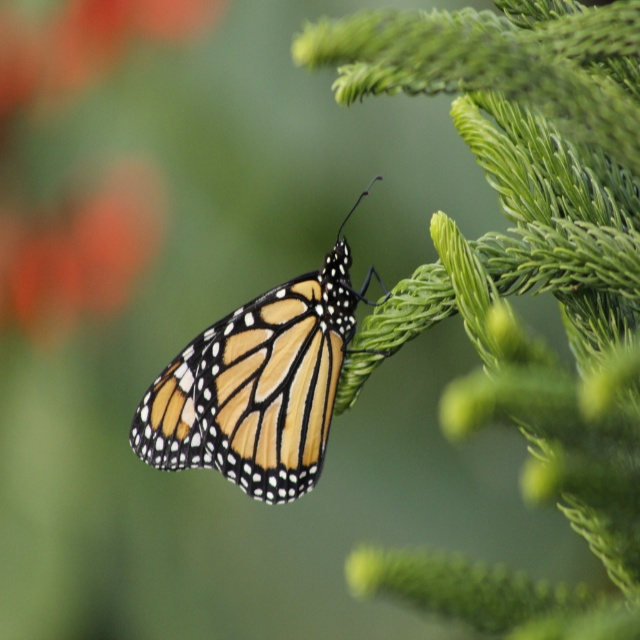Butterfly: (128, 177, 395, 500)
